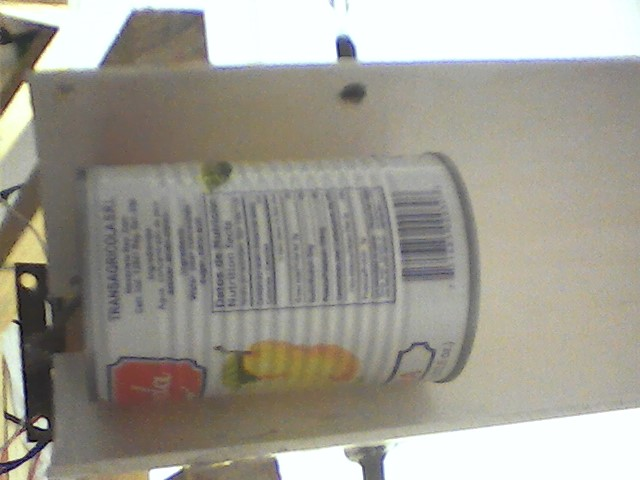lata: (70, 148, 485, 417)
